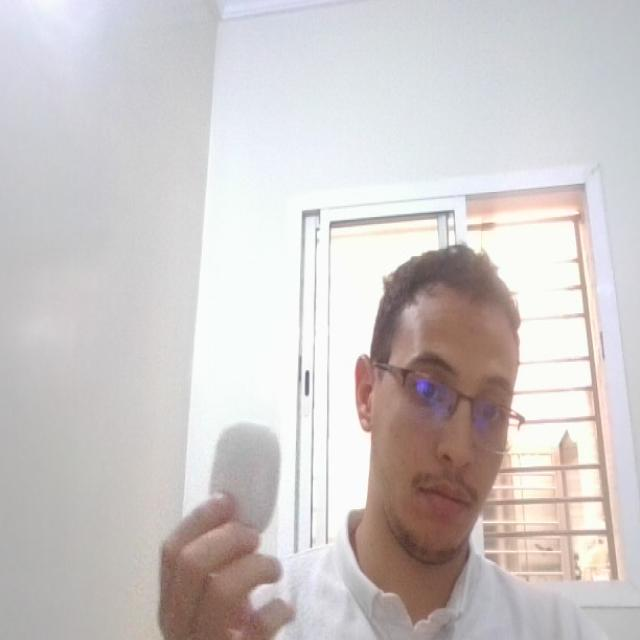airpods: (206, 410, 283, 536)
